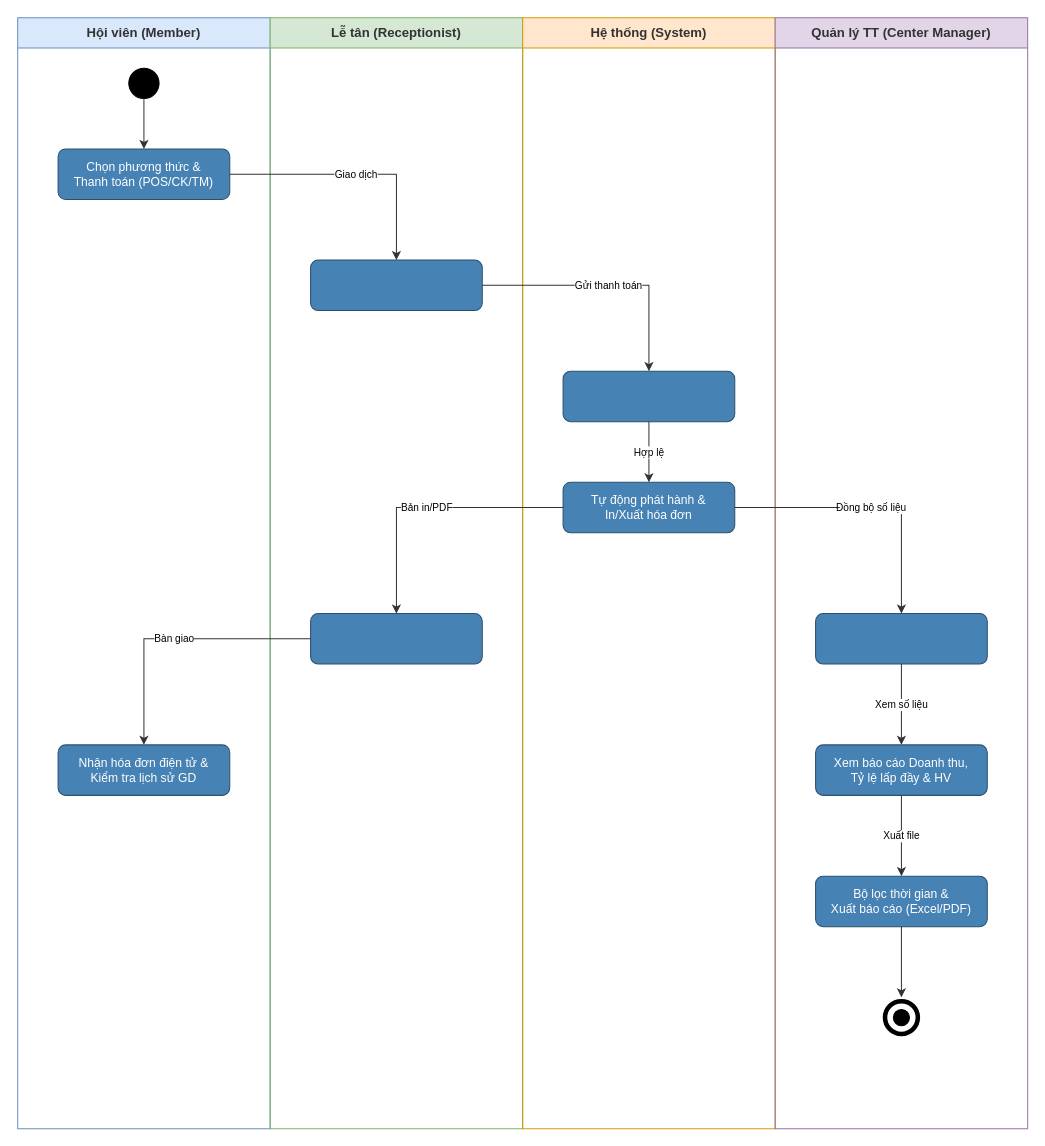
Some shapes in this 1045 by 1146 pixel diagram are drawn without their labels. The shapes that lost their labels are listed below. From the top down, each one's centre as x and y in pixels, then its label:
At point (396, 285): "Ghi nhận thanh toán & Tiếp nhận hỗ trợ".
At point (648, 396): "Xử lý giao dịch & Cập nhật công nợ/trả góp".
At point (396, 638): "Bàn giao hóa đơn / Gửi biên lai cho HV".
At point (901, 638): "Truy cập phân hệ Báo cáo & Thống kê".
